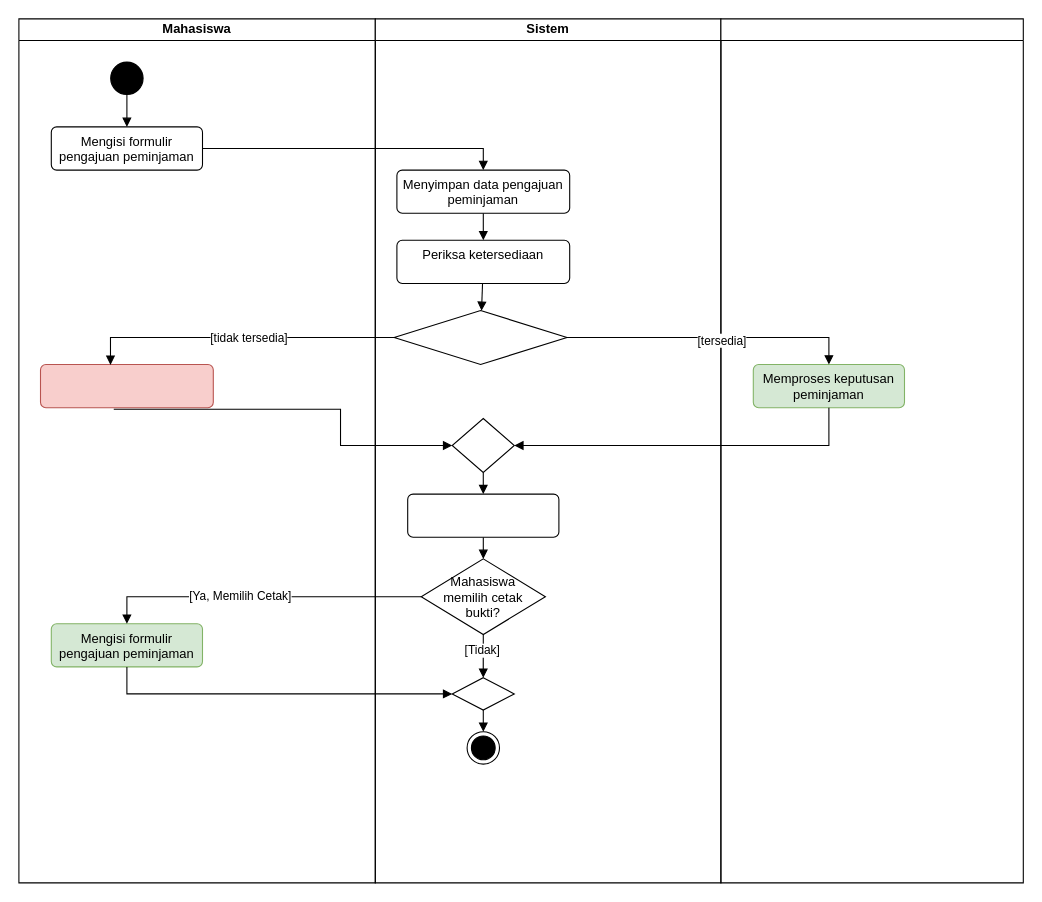
Some shapes in this 1042 by 902 pixel diagram are drawn without their labels. The shapes that lost their labels are listed below. From the top down, each one's box as (x1, y1, x2, y2) in pixels, then its label:
(393, 309, 567, 364): Peralatan tersedia?
(39, 363, 213, 408): menerima pemberitahuan pengajuan tidak terpenuhi
(720, 18, 1023, 883): Petugas Laboratorium
(407, 493, 559, 537): Mencatat hasil akhir pengajuan
